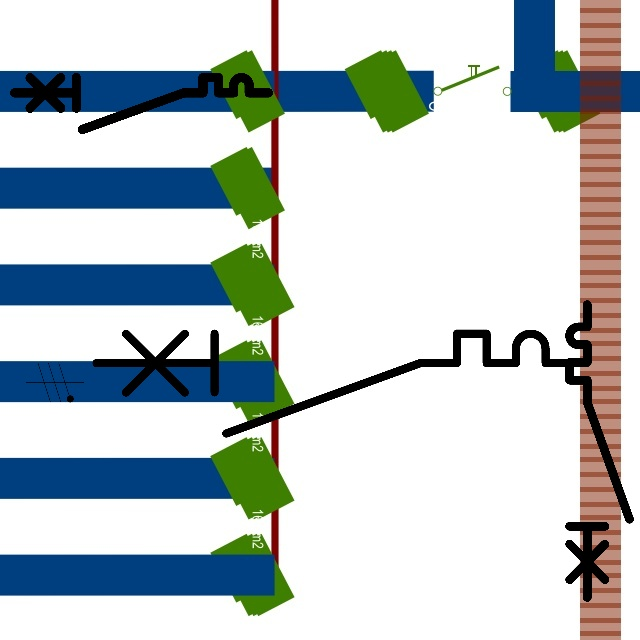interruptor_termomagnetico: (83, 321, 594, 446), (562, 297, 637, 605), (8, 71, 275, 136)
